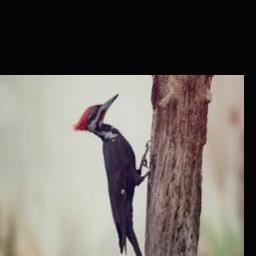Woodpecker: (74, 93, 151, 256)
